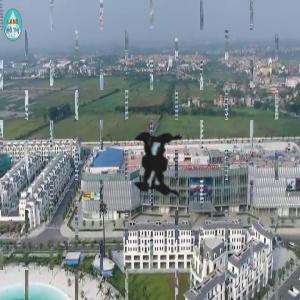drone: (48, 66, 258, 276)
